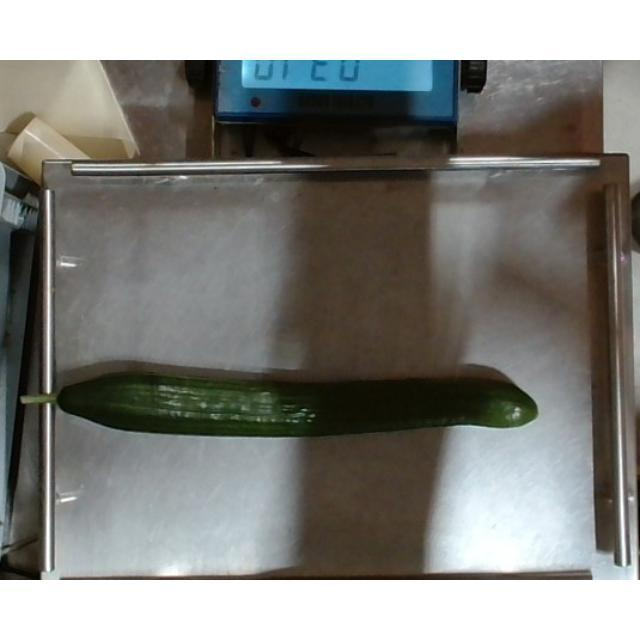cucumber: (36, 372, 540, 434)
